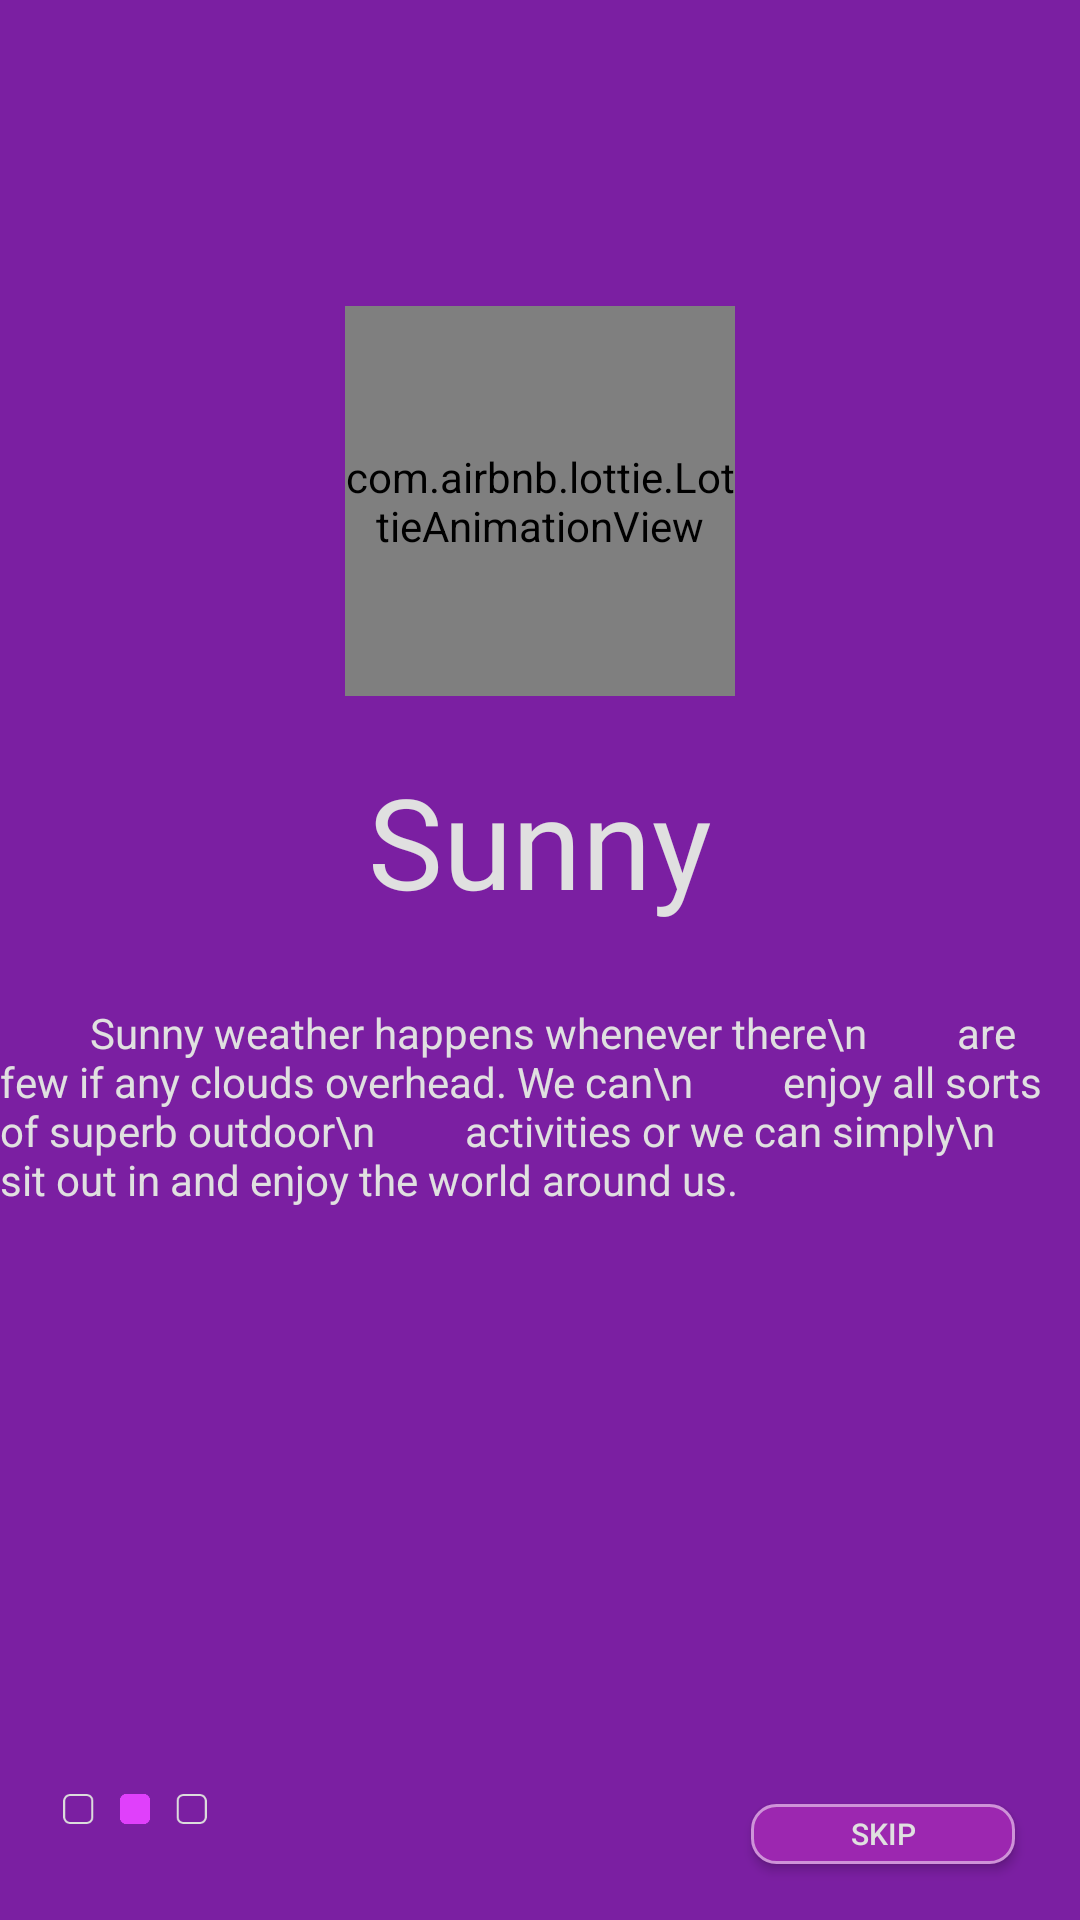

Icons on this 1080 x 1920 Android screen, each with its box as (x1, y1, x2, y2):
tab: (63, 1794, 207, 1824)
